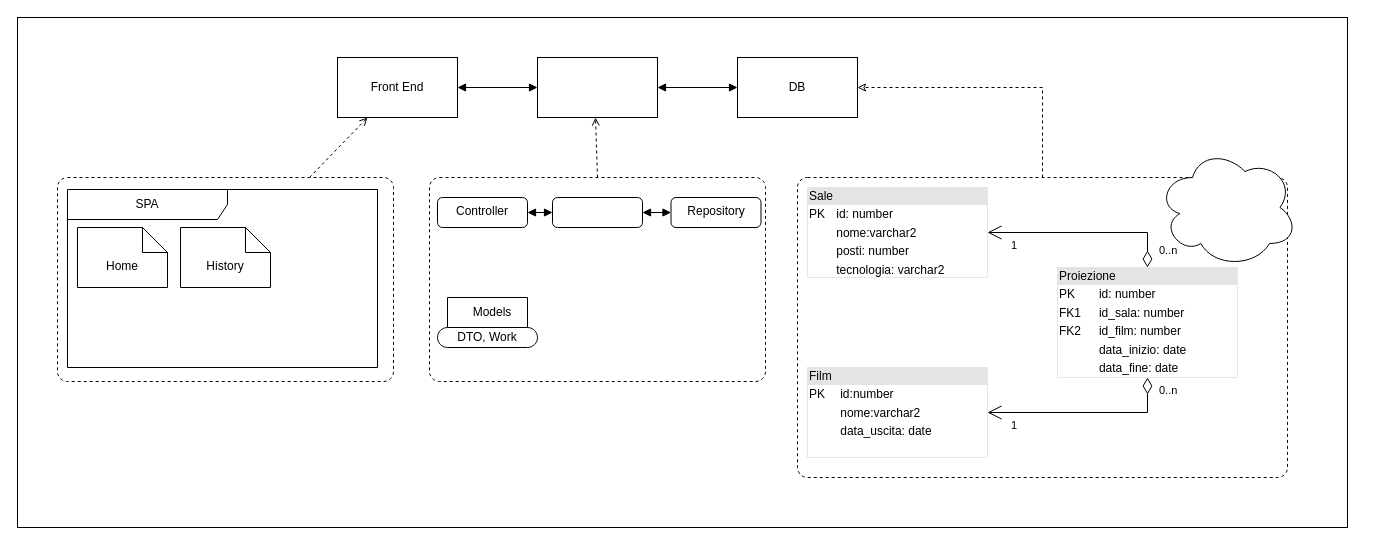
This 1395x545 diagram has some shape labels left out. Here are the shapes that lost their labels. From the top down, the centre of each, then its label:
(597,87): Back End
(597,212): Service
(1227,207): Ogni tabella corrisponderà ad un file excel
